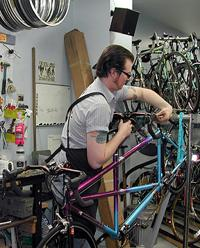person: (58, 44, 174, 239)
